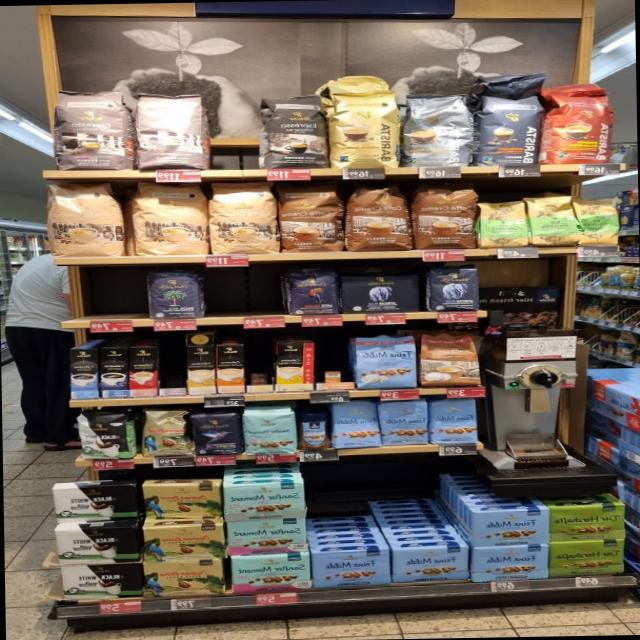AB Bohne: (425, 264, 481, 312)
AB Gemahlen: (340, 273, 420, 314)
Athiopien Bohne: (574, 198, 622, 246)
Athiopien Gemahlen: (478, 200, 530, 248), (530, 196, 574, 246)
BM Bohne: (150, 268, 202, 320)
BW Bohne: (75, 410, 134, 461)
BW Gemahlen: (52, 484, 133, 523), (58, 564, 144, 600), (55, 526, 136, 564)
Barista CB: (330, 89, 400, 169)
Barista CC: (402, 94, 476, 168)
Barista Espresso: (472, 96, 544, 168)
Barista Kolumbien: (542, 94, 616, 166)
C Fino Bohne: (190, 411, 242, 456)
CC Mild: (47, 180, 121, 256), (131, 182, 207, 256), (208, 182, 276, 256)
CC Vollmundig: (418, 333, 482, 386)
CC Vollmundig 36 Pads: (342, 182, 412, 252), (278, 180, 344, 252), (411, 182, 480, 250)
Colombia BB Bohne: (141, 408, 189, 456)
Colombia BB Gemahlen: (142, 524, 228, 562), (143, 560, 220, 598), (142, 484, 223, 517)
Empty Shelf: (62, 272, 148, 321), (202, 272, 282, 316), (314, 337, 350, 383), (246, 342, 276, 384), (160, 346, 187, 388)
Espresso Aromatisch: (50, 90, 128, 170), (132, 91, 210, 171)
Espresso S Art: (258, 93, 327, 170)
FM 36 Pads: (352, 334, 418, 391)
FM Bohne: (428, 397, 479, 443), (331, 401, 379, 449), (380, 399, 430, 445)
FM Gemahlen: (311, 548, 391, 588), (469, 508, 548, 546), (470, 544, 550, 581), (392, 546, 468, 582)
FM Instant: (295, 408, 331, 451)
Herzhatfe Mundig: (548, 503, 626, 542), (548, 540, 626, 576)
LG Bohne: (284, 266, 339, 316)
SM Bohne: (242, 406, 296, 456)
SM Gemahlen: (222, 480, 306, 520), (230, 553, 310, 593), (226, 518, 307, 554)
Simo CCMild: (275, 342, 316, 392)
Simo CCVollmundig bigpack: (216, 344, 245, 394)
Simo Decaff: (187, 344, 215, 394)
Simo Es Brazil: (128, 346, 160, 397)
Simo Es Kraft: (100, 348, 128, 398)
Simo Es Vanilla: (71, 349, 97, 398)
